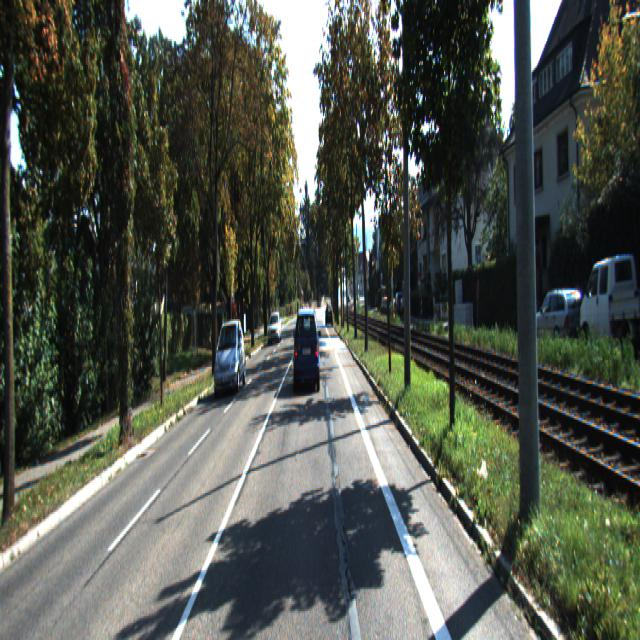Car: (578, 240, 640, 346), (531, 284, 587, 347), (214, 318, 246, 398), (292, 302, 320, 391), (268, 310, 282, 344)
